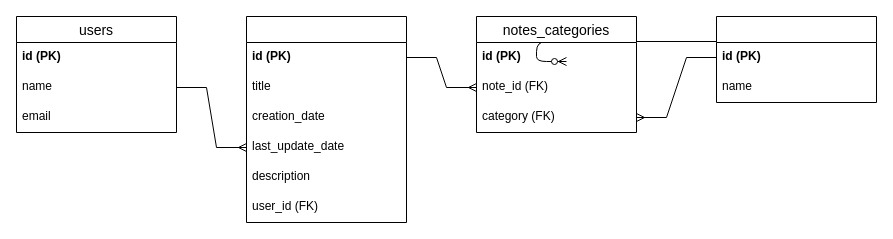
Image size: 893x239. Some labels were removed from this diagram. The box of each missing label's shape, as (x1, y1, x2, y2) in pixels:
categories: (716, 16, 876, 102)
notes: (246, 16, 406, 222)
